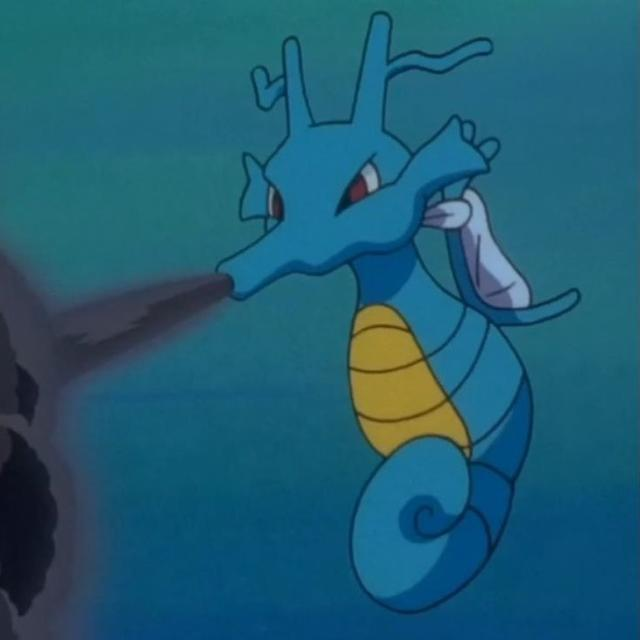Seadra: (227, 15, 533, 618)
